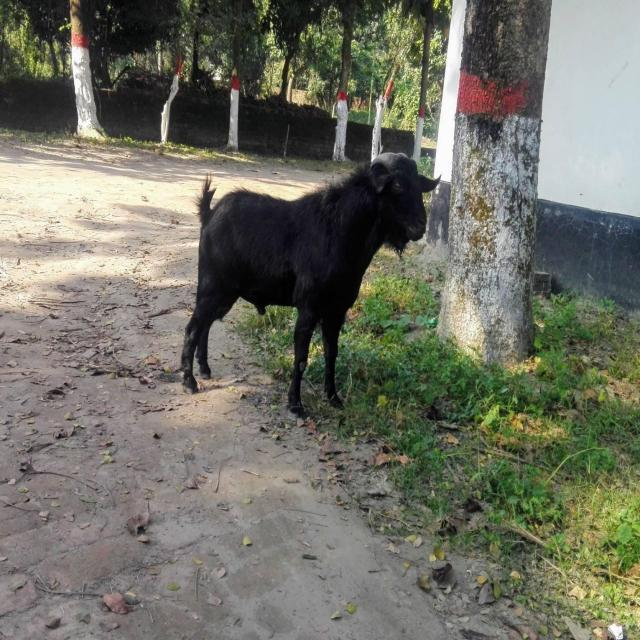Goat: (180, 150, 441, 417)
